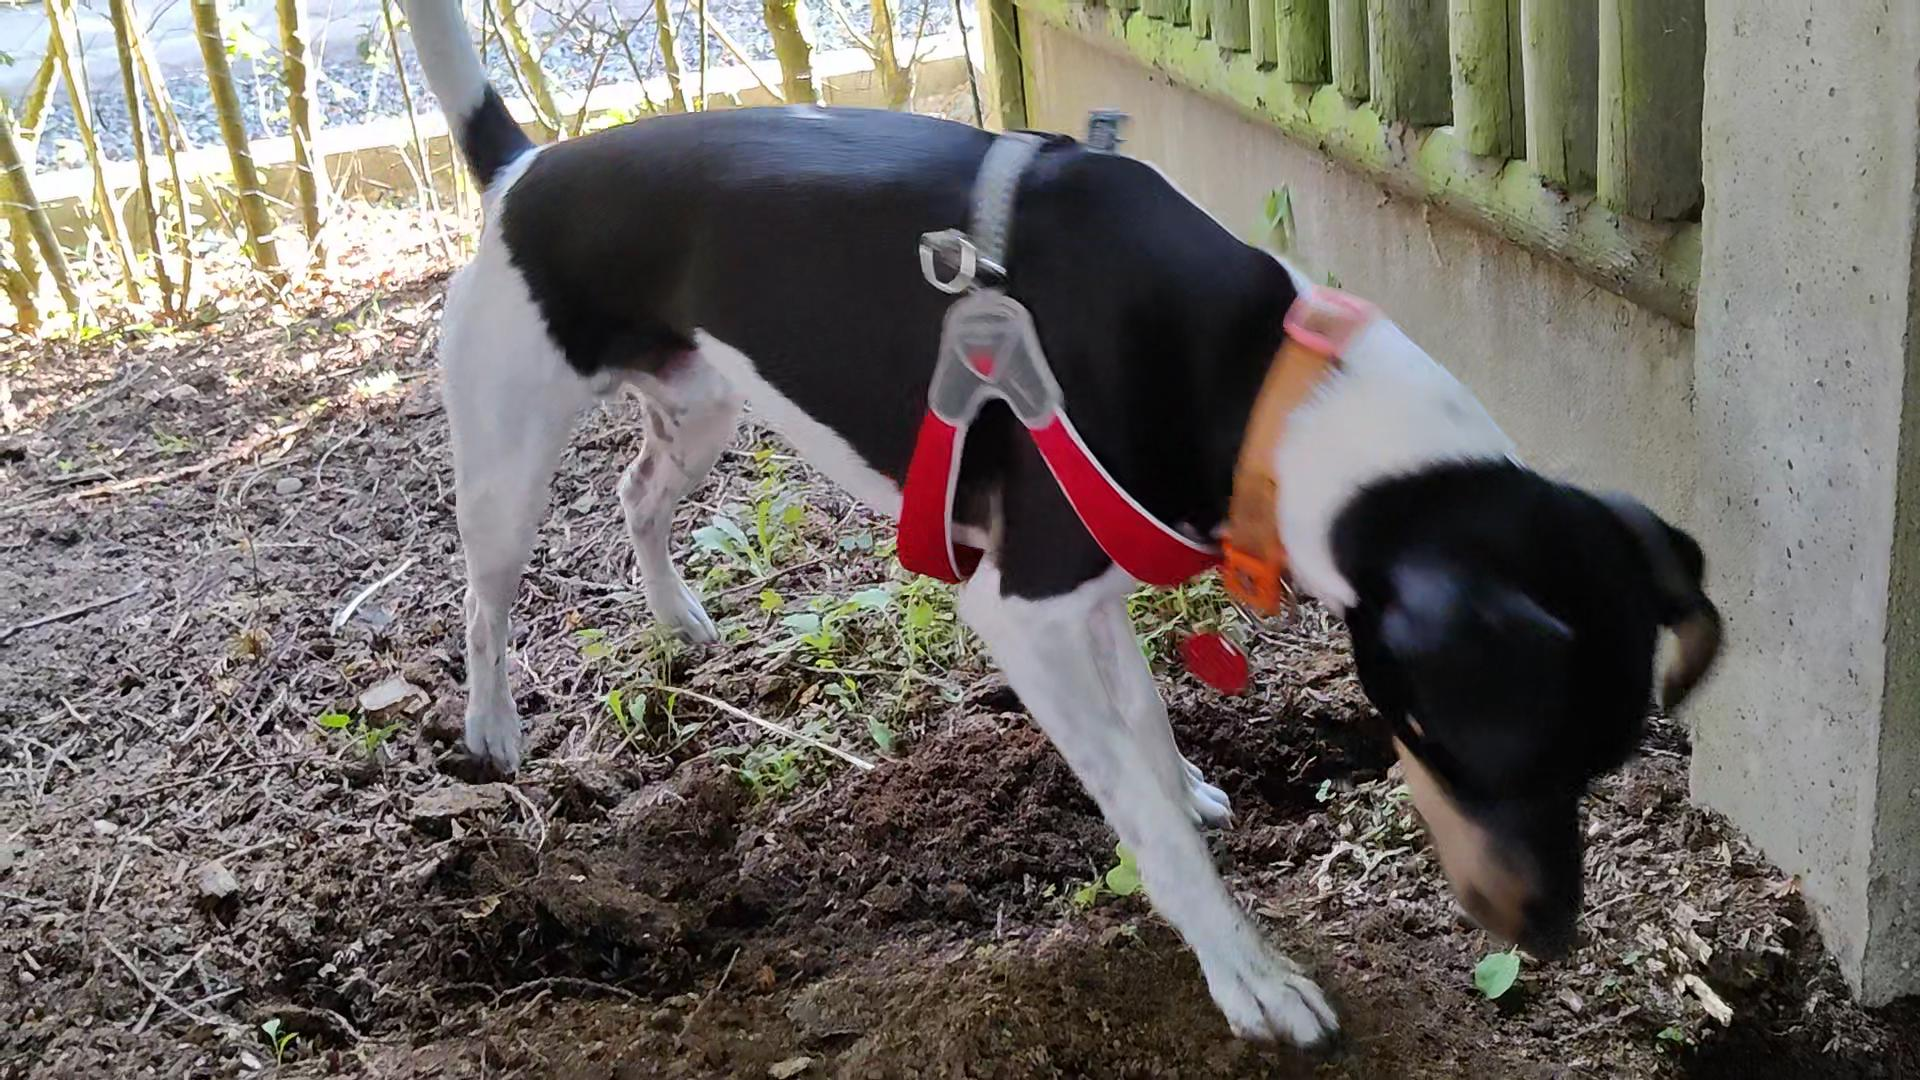Dog: (367, 0, 1745, 1054)
